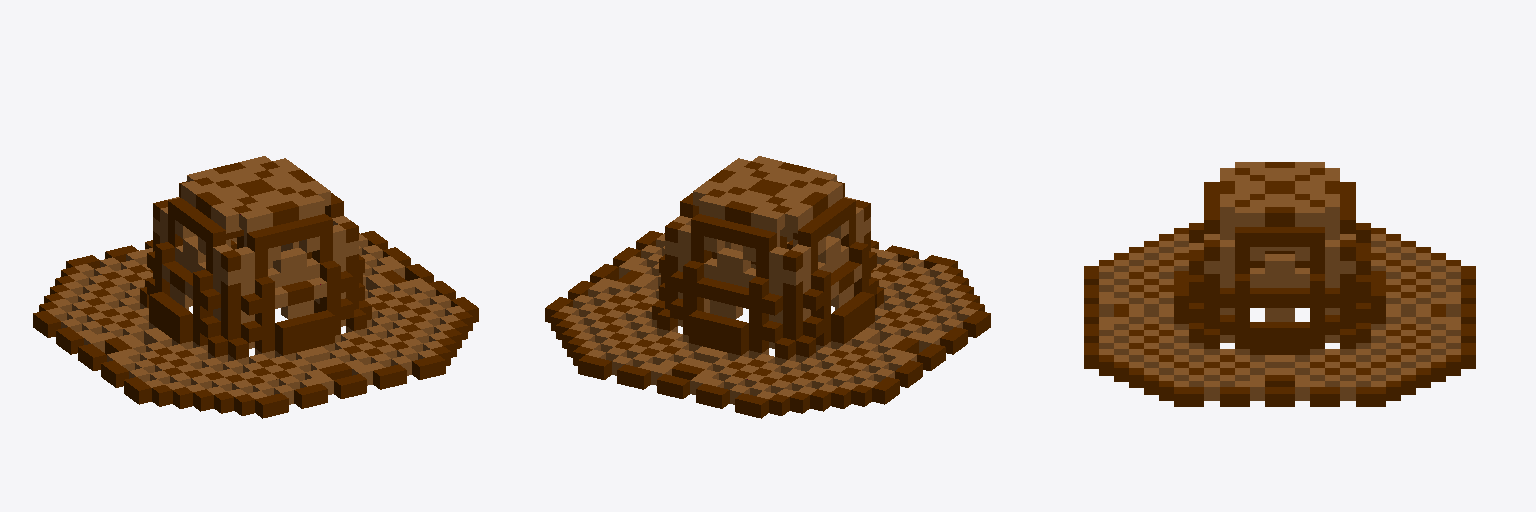
The picture shows the model from 3 angles: view 1: azimuth 30°, elevation 25°; view 2: azimuth 150°, elevation 25°; view 3: azimuth 270°, elevation 25°; orthographic projection.
Parts seen in each view (by area): view 1: StrawHat_83; view 2: StrawHat_83; view 3: StrawHat_83.
Part boxes in pixels (left/top/right/bottom): StrawHat_83: left=33, top=156, right=478, bottom=418; StrawHat_83: left=545, top=156, right=990, bottom=418; StrawHat_83: left=1084, top=162, right=1475, bottom=406.
Size of the model in its own units: 2.6 by 1 by 2.6.
Materials: 1 (1 with a texture image).